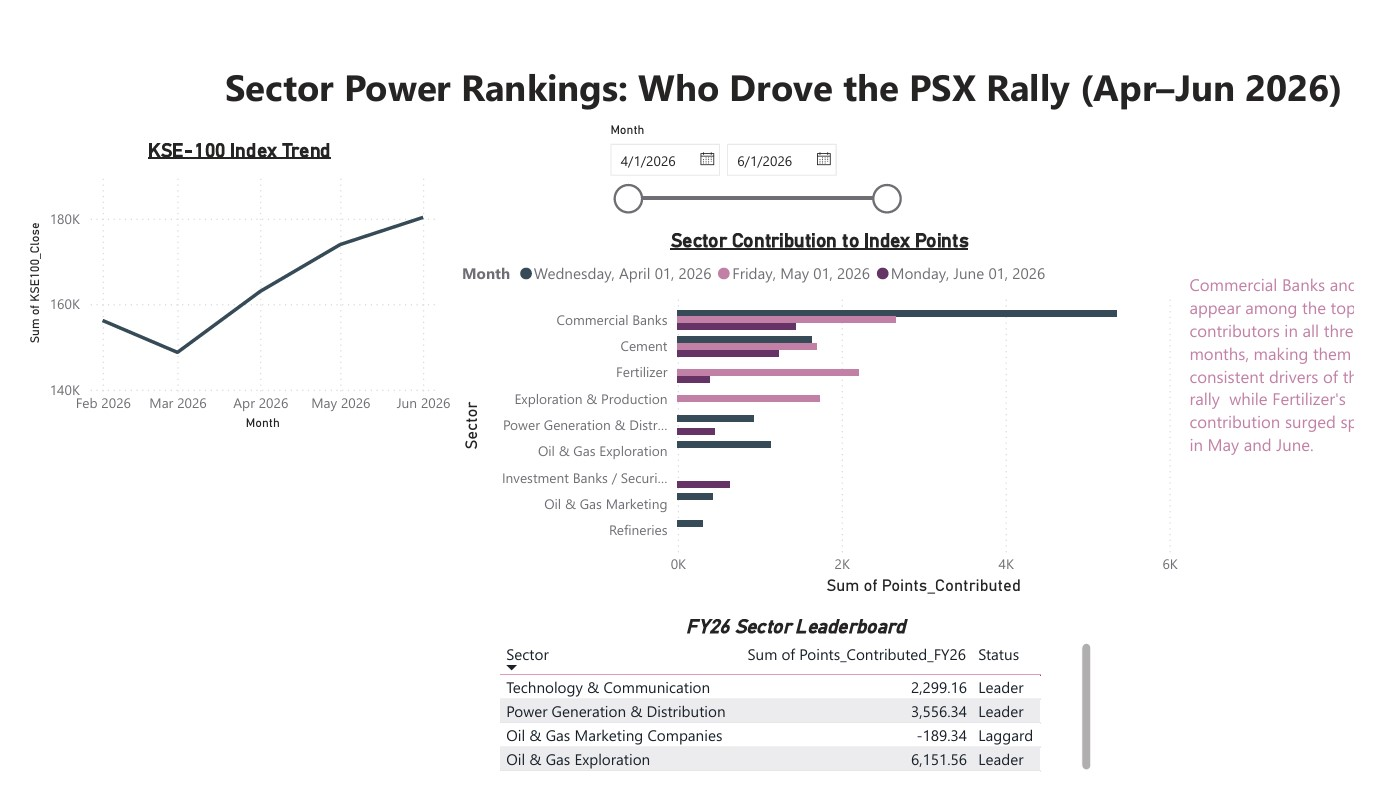

Layout of this report page (visuals, bound fields, positions):
{"tool":"powerbi","page":{"name":"Page 1","canvas":[1280,720],"ordinal":0},"visuals":[{"type":"clusteredBarChart","title":"Sector Contribution to Index Points","fields":{"Category":["Sector_Points_Monthly.Sector"],"Y":["Sum(Sector_Points_Monthly.Points_Contributed)"],"Series":["Sector_Points_Monthly.Month"]},"box":[379,179,636,325],"z":0},{"type":"slicer","fields":{"Values":["Sector_Points_Monthly.Month"]},"box":[500.9,81,275.8,89.2],"z":1000},{"type":"lineChart","title":"KSE-100 Index Trend","fields":{"Y":["Sum(Index_Trend.KSE100_Close)"],"Category":["Index_Trend.Month"]},"box":[0,100,379,260],"z":2000},{"type":"tableEx","title":"FY26 Sector Leaderboard","fields":{"Values":["FY26_Sector_Aggregate.Sector","Sum(FY26_Sector_Aggregate.Points_Contributed_FY26)","FY26_Sector_Aggregate.Status"]},"box":[411.4,517.6,528.4,193],"z":3000},{"type":"textbox","box":[101.5,27.4,1128,60.4],"z":4000},{"type":"textbox","box":[1015.4,212.7,214.1,179.8],"z":5000}]}

Visuals, with their boxes in screenshot pixels (x1, y1, x2, y2), scaled from the page's 1280x720 canvas onto the 1377x792 screenshot:
"Sector Contribution to Index Points" clusteredBarChart: bbox=[408, 197, 1092, 554]
slicer - Sector_Points_Monthly.Month: bbox=[539, 89, 836, 187]
"KSE-100 Index Trend" lineChart: bbox=[0, 110, 408, 396]
"FY26 Sector Leaderboard" tableEx: bbox=[443, 569, 1011, 782]
textbox: bbox=[109, 30, 1323, 97]
textbox: bbox=[1092, 234, 1323, 432]
